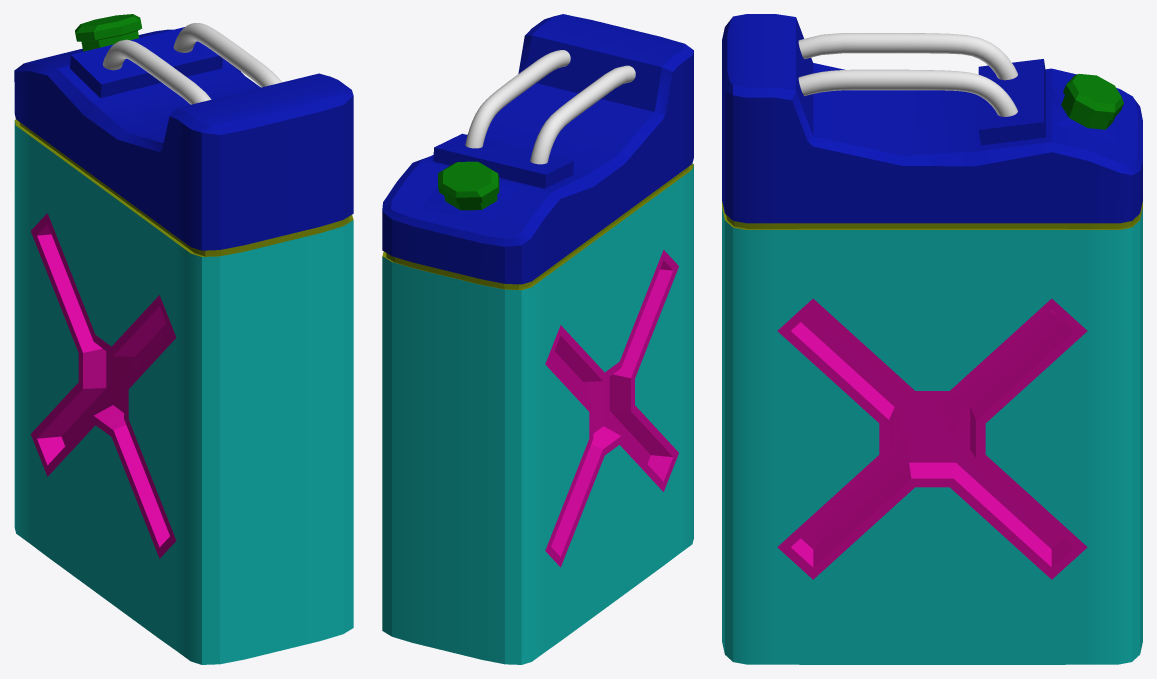
File: can (1).FBX
3 renders of one model, left to right at view 1: azimuth 30°, elevation 25°; view 2: azimuth 150°, elevation 25°; view 3: azimuth 270°, elevation 25°, orthographic. The views are drawn at different scales.
Parts seen in each view (by area): view 1: Plane002, Cylinder001; view 2: Plane002, Cylinder001; view 3: Plane002, Cylinder001.
Boxes of the visible parts, box(x1,y1,x2,y2) form: Plane002: box(14, 14, 353, 664); Cylinder001: box(103, 23, 281, 104); Plane002: box(382, 14, 693, 664); Cylinder001: box(465, 50, 635, 164); Plane002: box(722, 14, 1142, 664); Cylinder001: box(798, 33, 1017, 116).
Size of the model in its own units: 177 by 565 by 376.
